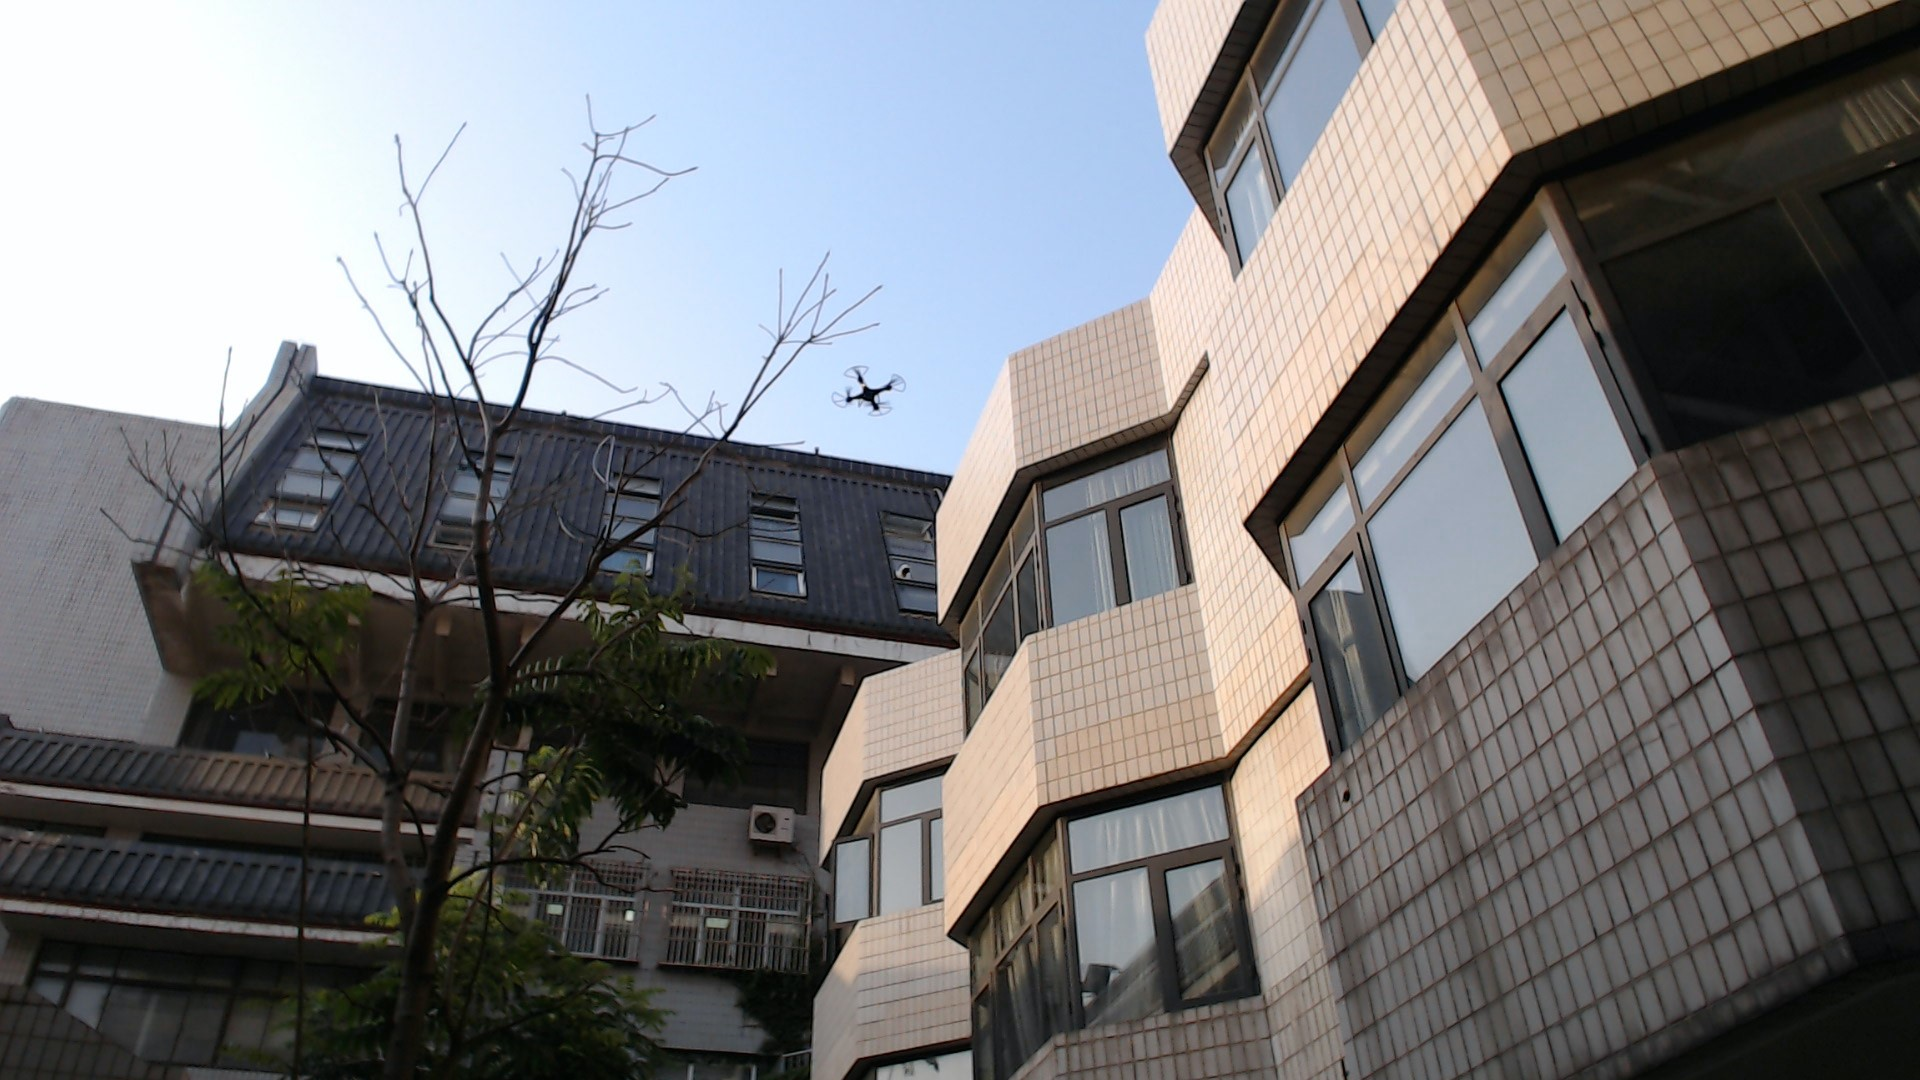drone: (806, 356, 936, 433)
